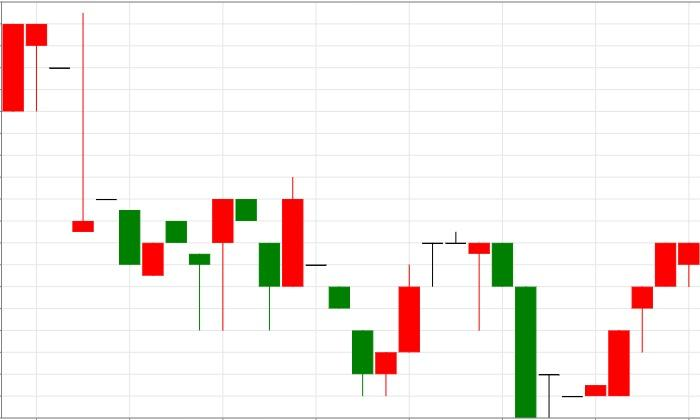three_white_soldiers_rise: (445, 231, 677, 418)
